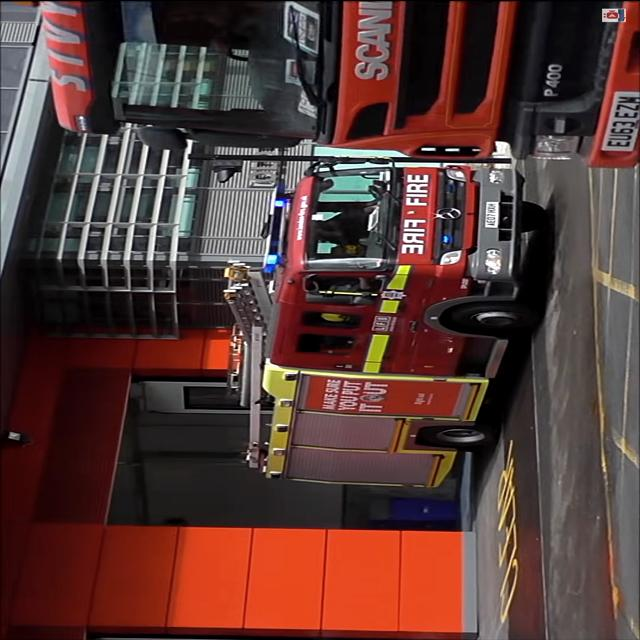emergency-vehicles: (204, 148, 556, 502)
